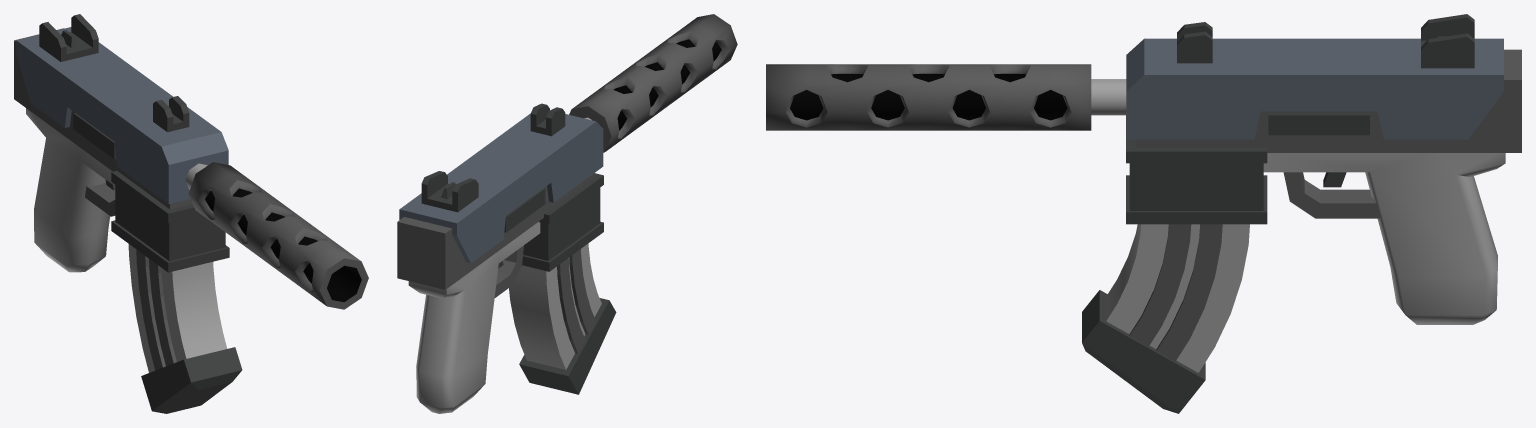
The model's file is wpn_smg_001.fbx.
The picture shows the model from 3 angles, left to right: view 1: azimuth 30°, elevation 25°; view 2: azimuth 150°, elevation 25°; view 3: azimuth 270°, elevation 25°; orthographic projection. The views are drawn at different scales.
Visible parts, largest first — view 1: wpn_smg_001; view 2: wpn_smg_001; view 3: wpn_smg_001.
Part boxes in pixels (x1=…): wpn_smg_001: x1=14, y1=14, x2=368, y2=413; wpn_smg_001: x1=397, y1=14, x2=737, y2=413; wpn_smg_001: x1=766, y1=14, x2=1521, y2=413.
Bounding box in the file's own units: 0.0786 × 0.3685 × 0.6766.
